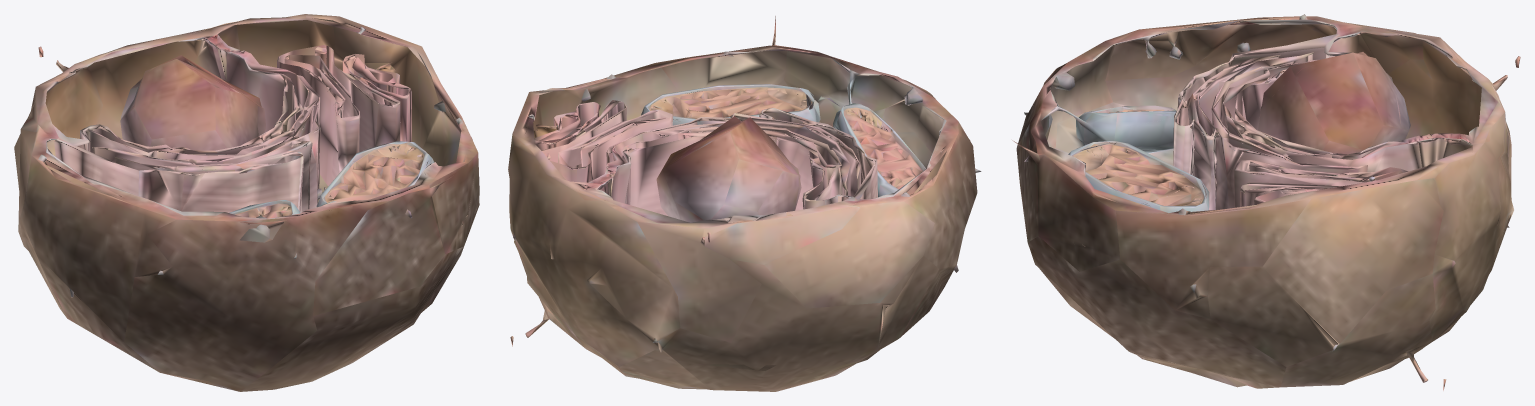
The model's file is celula.glb.
3 views of the same model, side by side, from view 1: azimuth 30°, elevation 25°; view 2: azimuth 150°, elevation 25°; view 3: azimuth 270°, elevation 25° (orthographic). The views are drawn at different scales.
Parts seen in each view (by area): view 1: geometry_0; view 2: geometry_0; view 3: geometry_0.
Part boxes in pixels (bbox=[...]): geometry_0: bbox=[14, 14, 479, 391]; geometry_0: bbox=[508, 16, 981, 391]; geometry_0: bbox=[1012, 14, 1520, 390].
Bounding box in the file's own units: 0.993 × 0.6074 × 1.
1 material, 1 textured.
